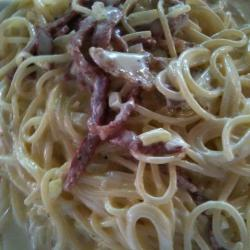carbonara: (1, 2, 231, 226)
